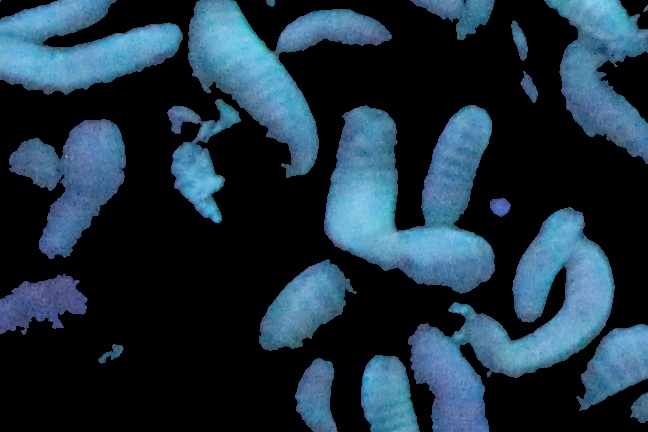larvae: (259, 229, 497, 347), (184, 1, 318, 173), (494, 236, 613, 374), (41, 114, 131, 261), (1, 23, 183, 92), (559, 41, 648, 155), (406, 326, 495, 432), (325, 107, 399, 227), (419, 105, 492, 226), (512, 209, 584, 321), (569, 320, 648, 408), (168, 141, 235, 238), (276, 11, 389, 57), (362, 353, 422, 432), (289, 356, 349, 432), (541, 1, 647, 40), (1, 1, 109, 39)
